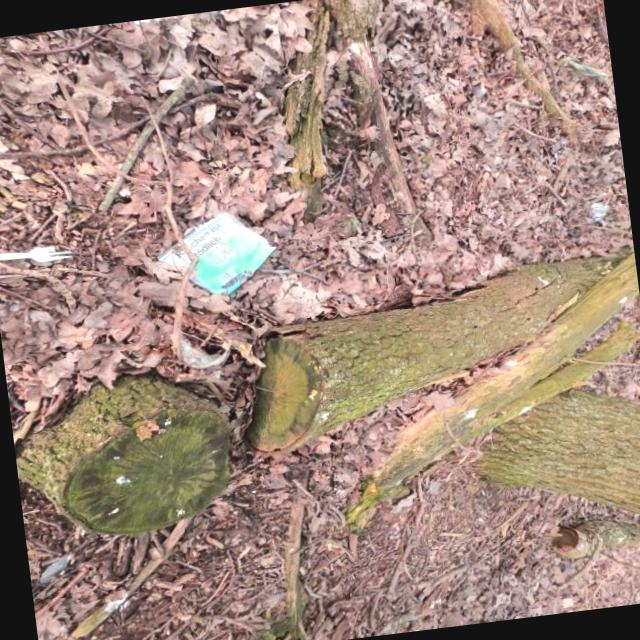Paper: (150, 204, 282, 304)
